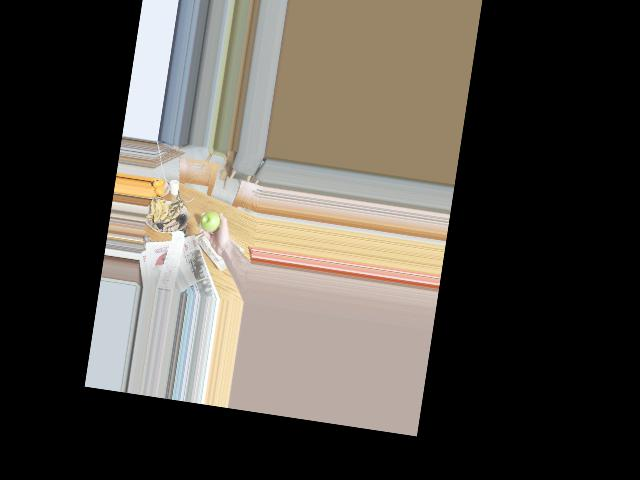apple: (200, 209, 221, 234)
